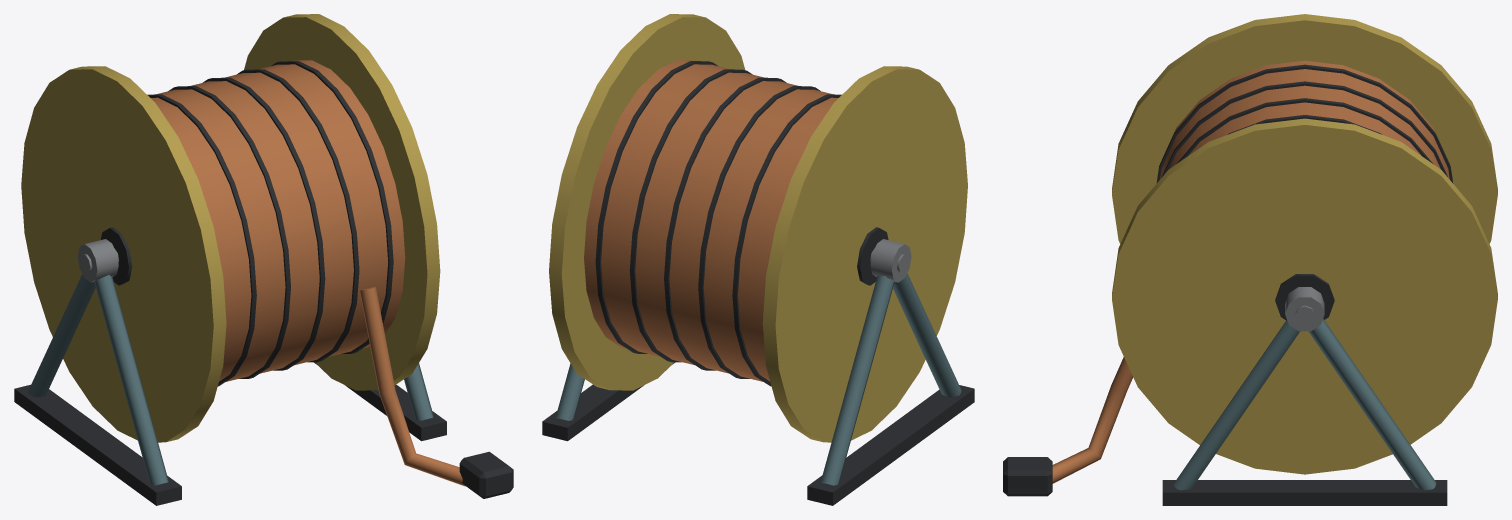
Rendered from astro_cable_reel.fbx.
3 renders of one model, left to right at view 1: azimuth 30°, elevation 25°; view 2: azimuth 150°, elevation 25°; view 3: azimuth 270°, elevation 25°, orthographic.
Visible parts, largest first — view 1: CableReel_Body; view 2: CableReel_Body; view 3: CableReel_Body.
Boxes of the visible parts, x1,y1,x2,y2 form: CableReel_Body: (14, 14, 513, 505); CableReel_Body: (542, 14, 974, 505); CableReel_Body: (1003, 14, 1497, 505).
Size of the model in its own units: 136 by 163 by 200.
